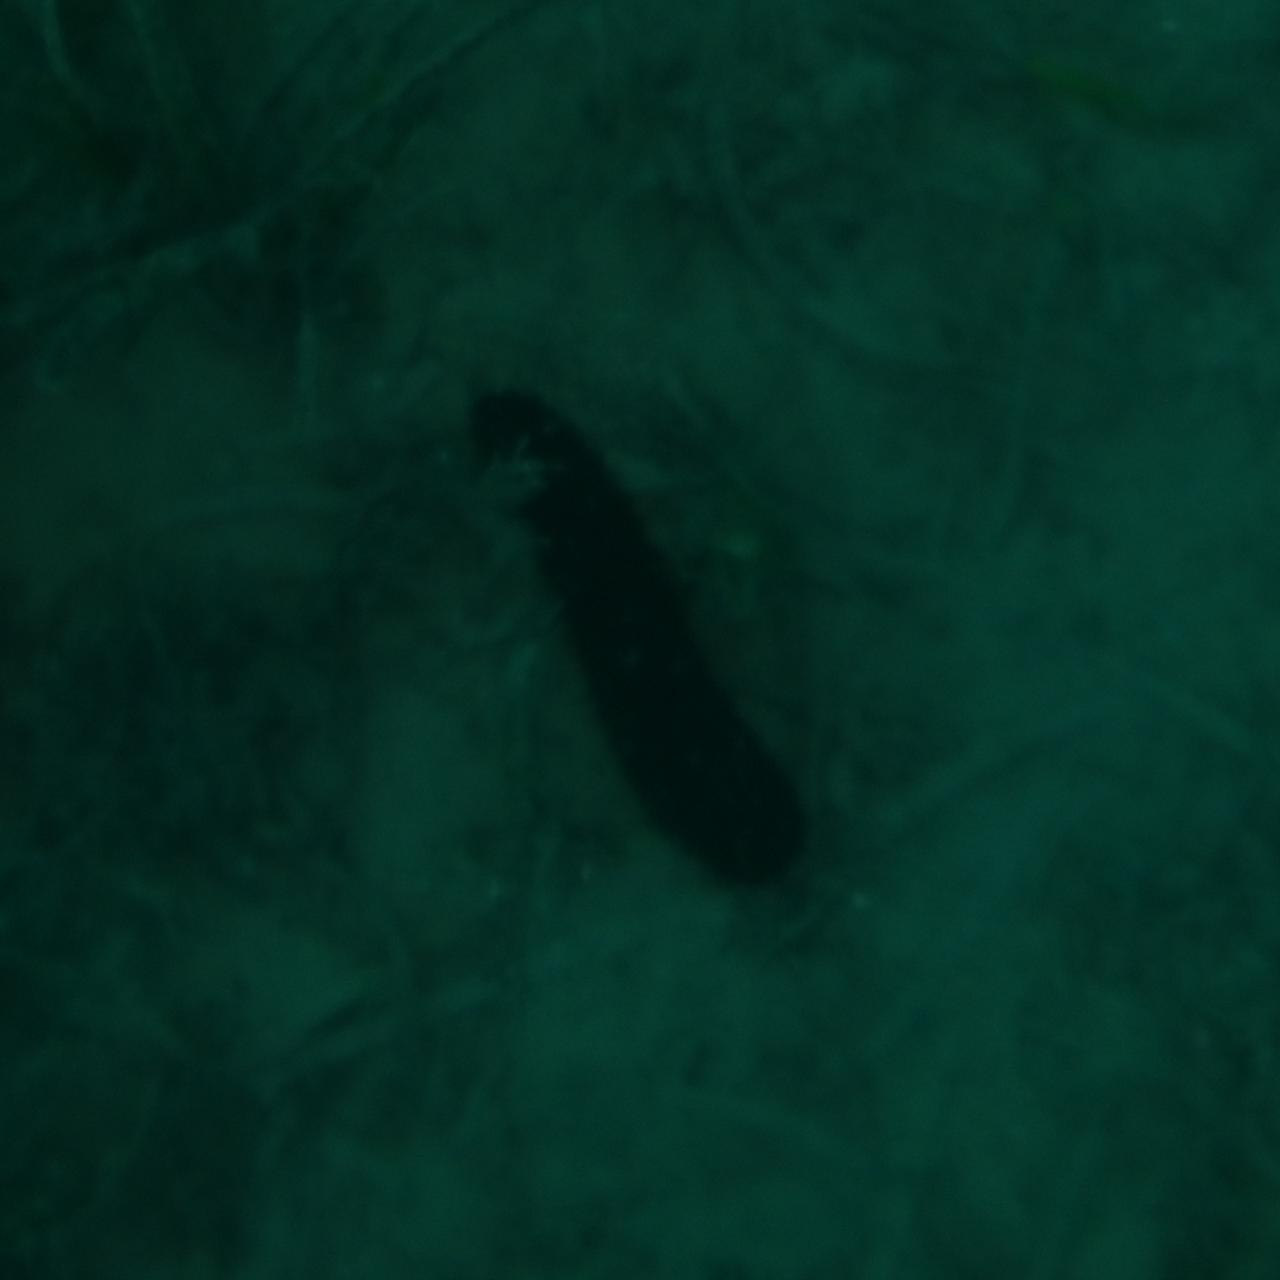Holothuria tubulosa: (463, 381, 817, 899)
